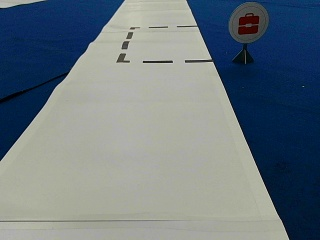company: (228, 3, 270, 42)
